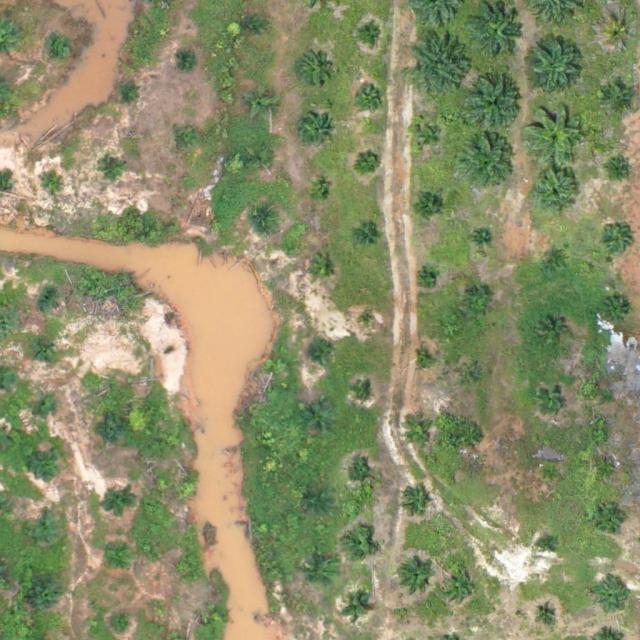Grass: (98, 417, 129, 448)
Healthy: (524, 103, 587, 166), (410, 35, 473, 98), (528, 34, 583, 89), (461, 134, 516, 189), (468, 76, 523, 131), (473, 6, 528, 61)
Small: (529, 166, 584, 221), (28, 512, 67, 552), (297, 112, 336, 152), (439, 568, 479, 607), (592, 577, 631, 616), (398, 557, 437, 596), (33, 579, 64, 611), (458, 421, 489, 453), (596, 502, 627, 534), (300, 52, 331, 84), (404, 417, 435, 449), (308, 254, 339, 286), (247, 87, 278, 119), (33, 449, 64, 480), (605, 83, 636, 114), (346, 462, 377, 493), (345, 530, 376, 561), (401, 488, 432, 519), (104, 489, 135, 520), (103, 545, 134, 576), (601, 226, 632, 257), (603, 297, 634, 328), (538, 384, 569, 415), (538, 317, 569, 348), (543, 246, 574, 277), (463, 290, 494, 321), (413, 190, 444, 221), (305, 405, 336, 436), (415, 121, 446, 152), (355, 81, 386, 112), (306, 561, 337, 592), (344, 595, 368, 619), (172, 557, 196, 581), (175, 479, 199, 503), (307, 342, 331, 366), (240, 15, 264, 39), (37, 391, 61, 415), (37, 337, 61, 361), (36, 290, 60, 314), (49, 39, 72, 63), (536, 602, 559, 626), (206, 604, 229, 628), (539, 463, 563, 486), (460, 366, 484, 389), (309, 183, 333, 206), (308, 491, 331, 515), (358, 22, 381, 46), (178, 50, 202, 73), (101, 159, 124, 183), (251, 149, 275, 172), (359, 150, 382, 174), (41, 174, 64, 198), (597, 459, 620, 483), (109, 616, 132, 639), (357, 228, 380, 251), (252, 210, 275, 233), (114, 80, 137, 103), (175, 129, 198, 152), (415, 352, 431, 368), (360, 314, 376, 330), (475, 231, 490, 247), (420, 271, 435, 287), (357, 384, 372, 400), (614, 162, 629, 178), (540, 538, 555, 553)
Yellow: (605, 20, 636, 51)
